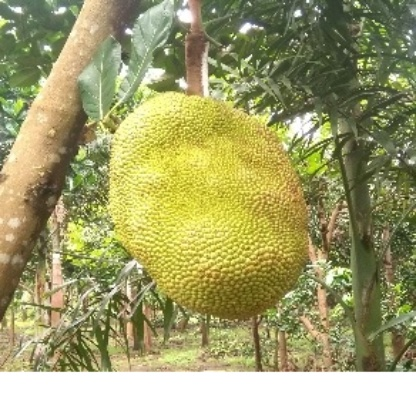mit: (101, 81, 315, 336)
